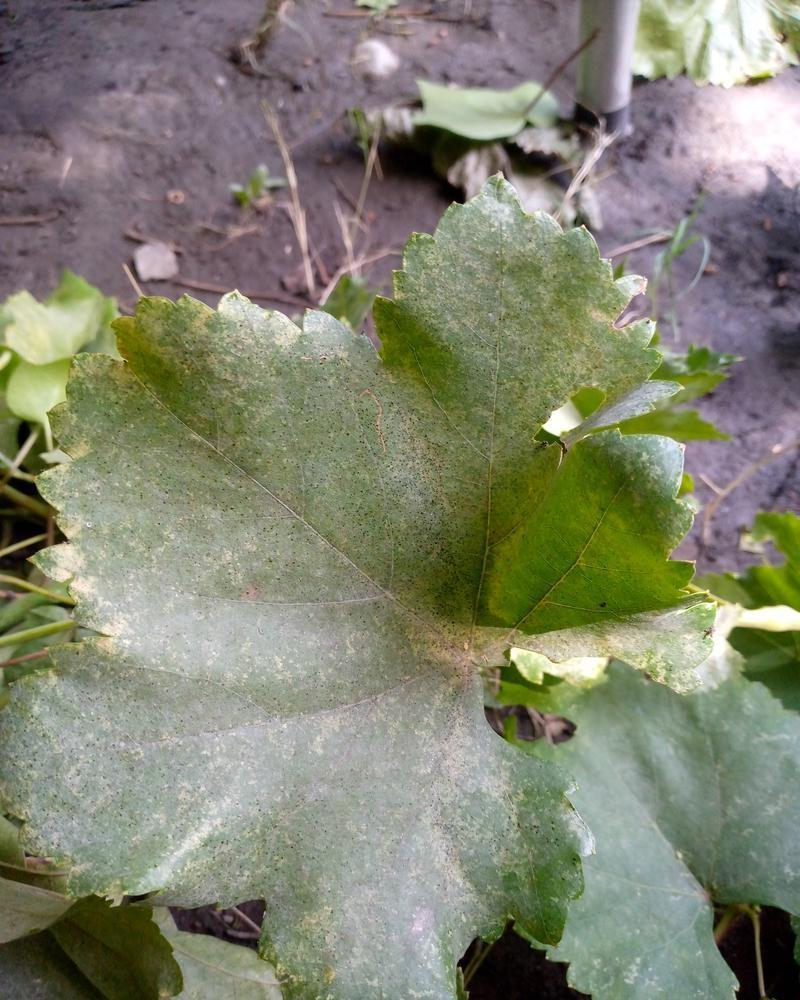Powdery-Mildew: (314, 807, 486, 996), (114, 557, 337, 697), (115, 730, 305, 889), (408, 600, 521, 678), (429, 725, 492, 788)
